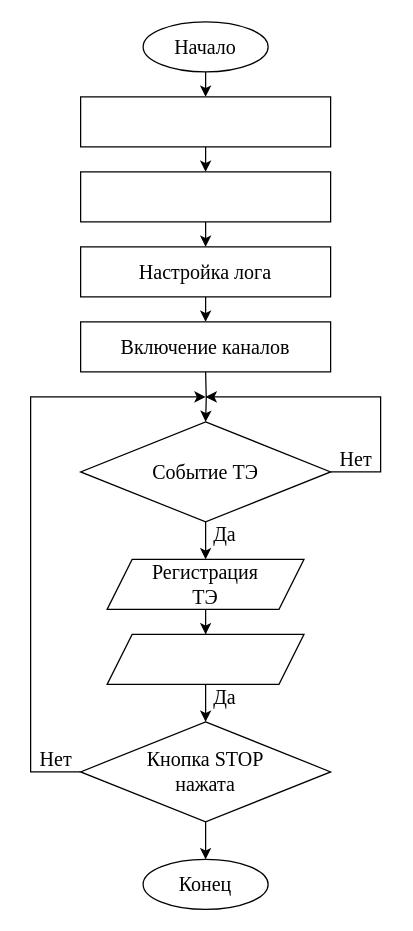
Image size: 413x931. Some labels were removed from this diagram. Here are the shapes that lost their labels. From the top down, the box of each, then its label:
(79, 96, 331, 147): Запуск программы
(79, 171, 331, 222): Настройка PXI-4112 №1 и №2
(106, 633, 304, 684): Парирование с помощью АТ
